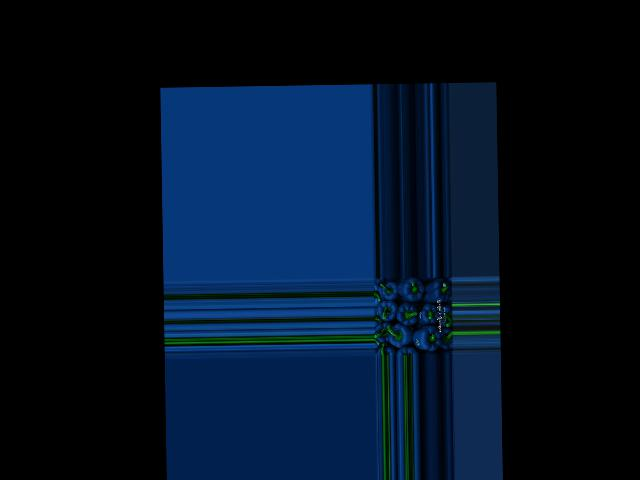bell_pepper: (436, 326, 453, 352)
